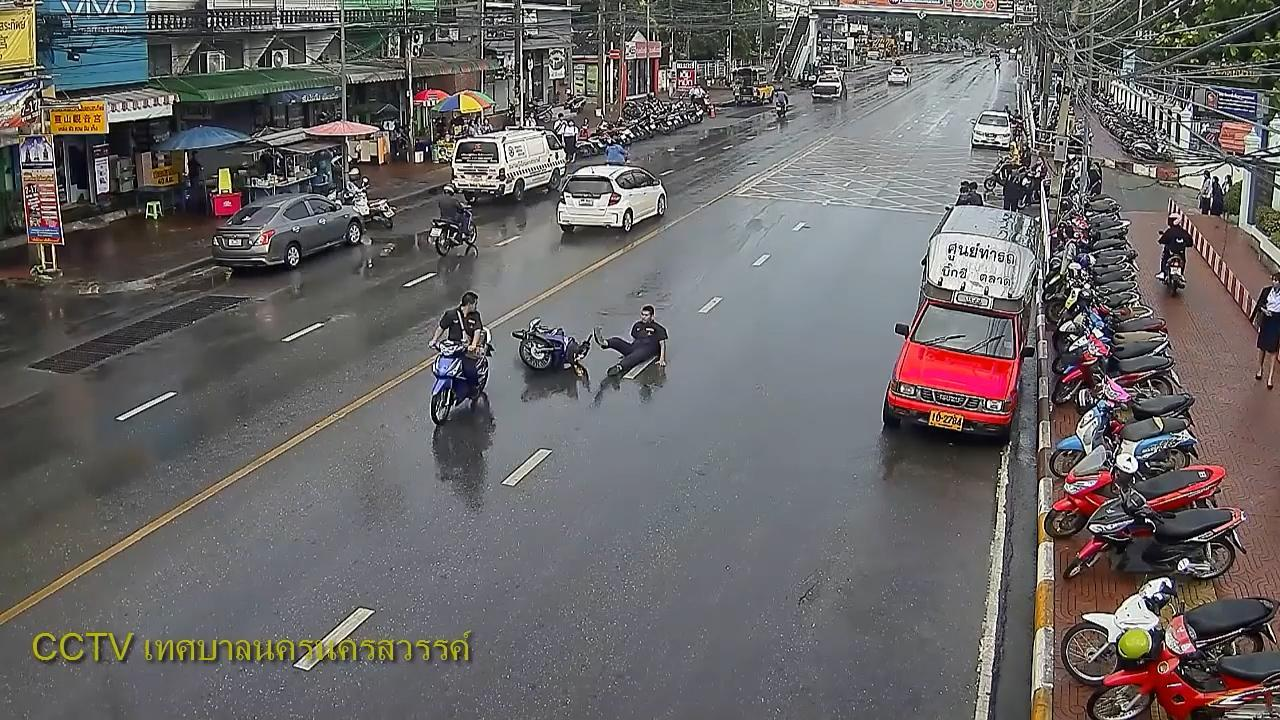accident: (591, 303, 673, 389)
